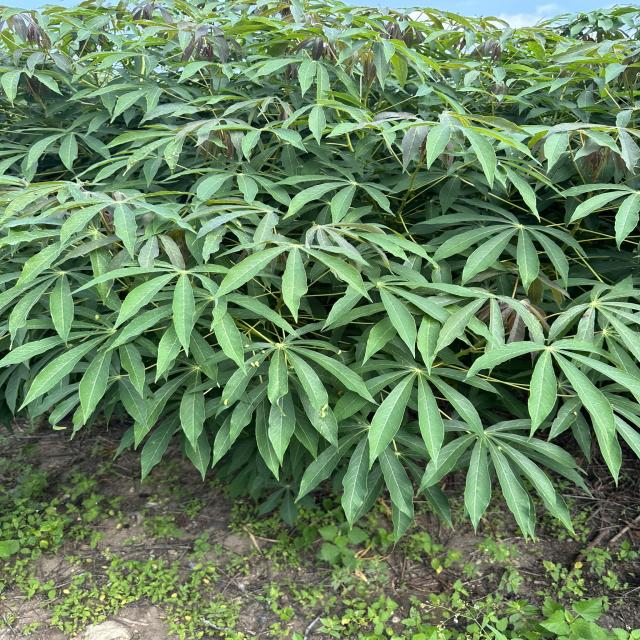Mosca: (314, 398, 335, 422), (214, 393, 235, 411), (565, 407, 585, 423), (88, 305, 104, 324), (456, 373, 472, 389), (254, 341, 272, 355), (246, 358, 265, 371), (335, 343, 350, 359), (237, 335, 252, 349)
